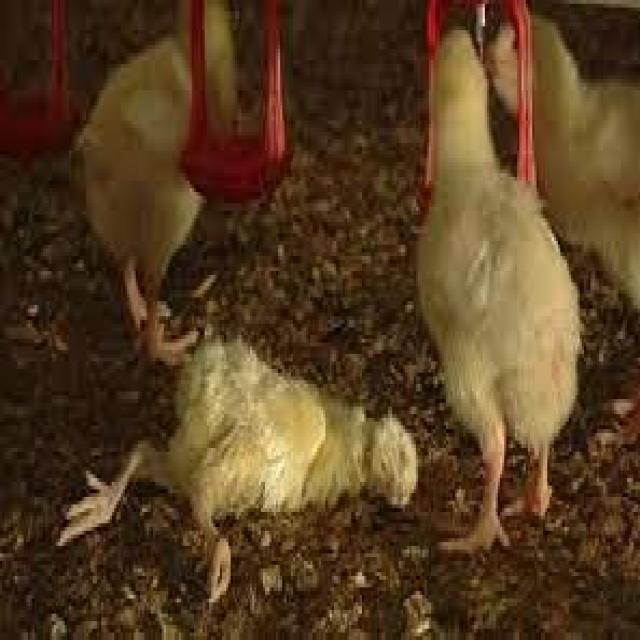Unhealthy: (53, 320, 421, 594)
